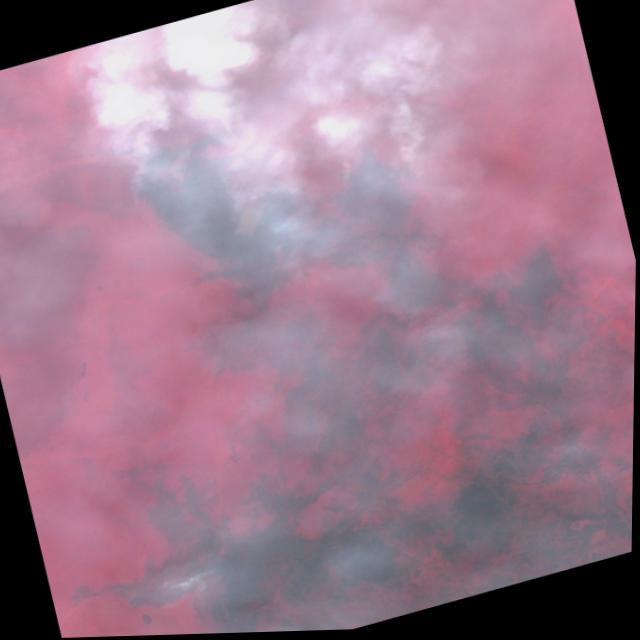fire: (83, 58, 444, 299)
